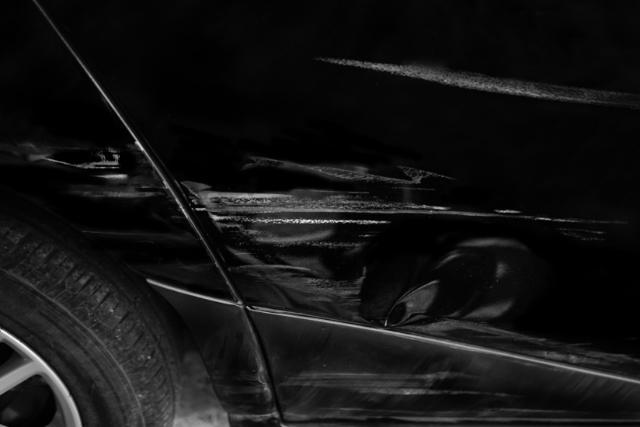Door: (112, 74, 640, 427)
